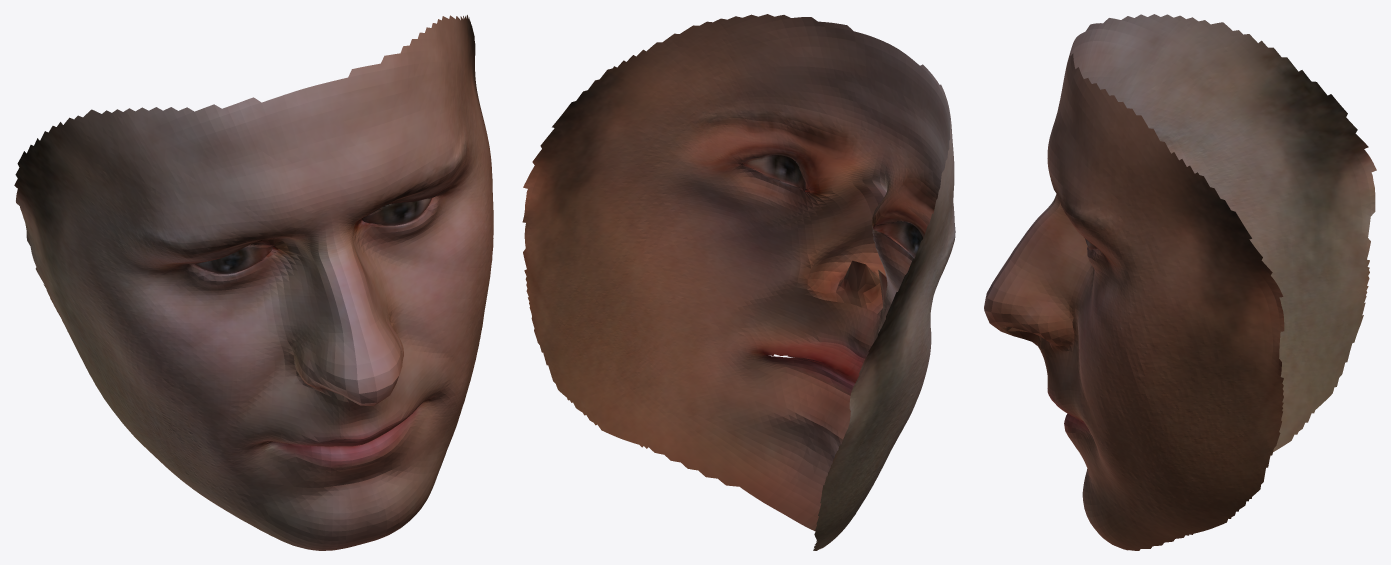
Rendered from alex.obj.
3 views of the same model, side by side, from view 1: azimuth 30°, elevation 25°; view 2: azimuth 150°, elevation 25°; view 3: azimuth 270°, elevation 25° (orthographic). The views are drawn at different scales.
Size of the model in its own units: 1.53 by 1.75 by 1.3.
